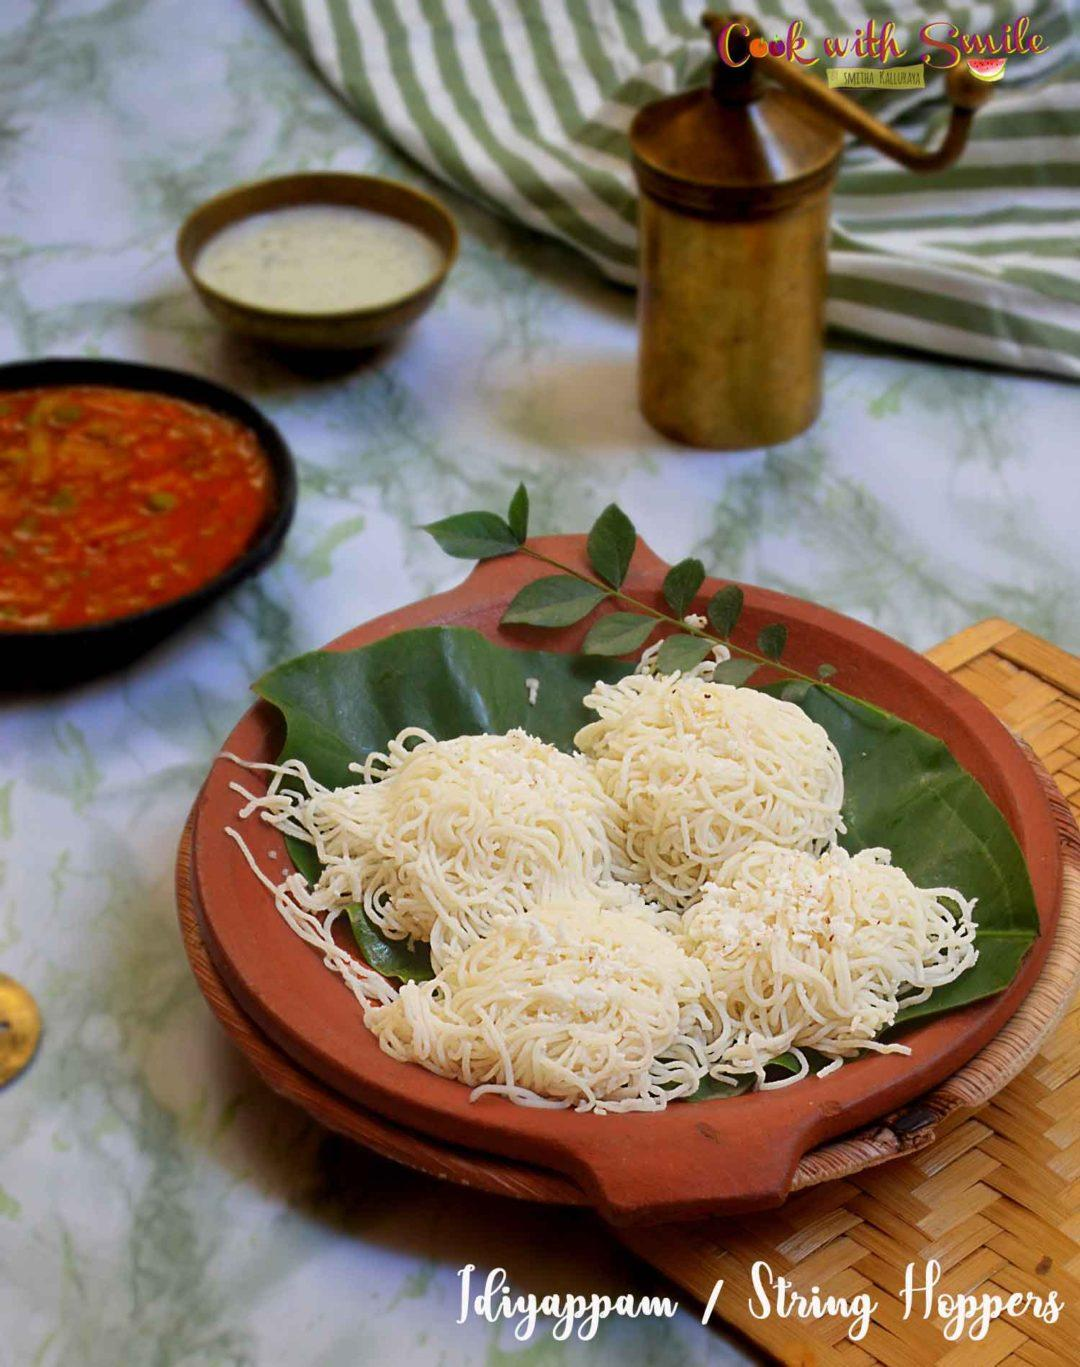String Hoppers: (225, 683, 1007, 1135)
